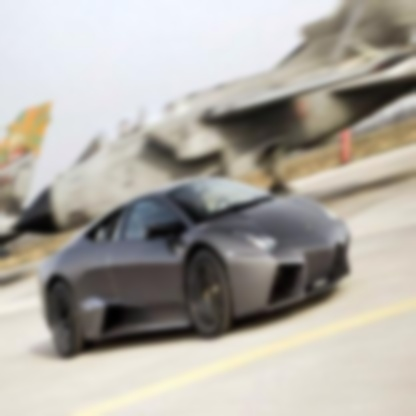Vehicle: (35, 173, 352, 361)
